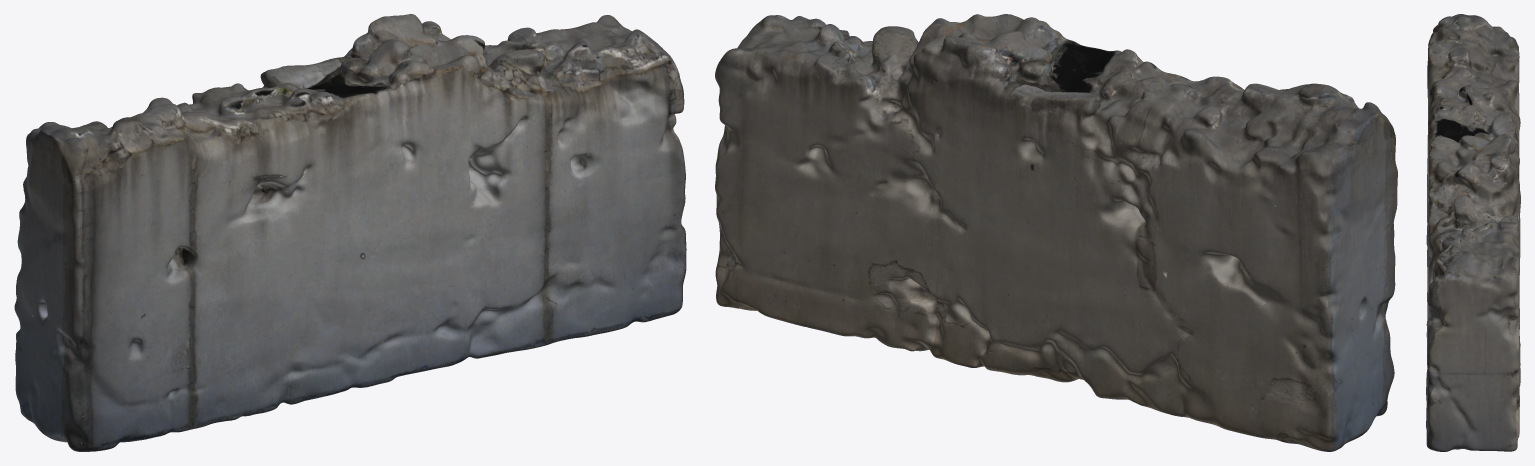
The model's file is A_ruined_concrete_wal_0305131232_texture.obj.
3 renders of one model, left to right at view 1: azimuth 30°, elevation 25°; view 2: azimuth 150°, elevation 25°; view 3: azimuth 270°, elevation 25°, orthographic. The views are drawn at different scales.
Visible parts, largest first — view 1: A_ruined_concrete_wal_0305131232_texture; view 2: A_ruined_concrete_wal_0305131232_texture; view 3: A_ruined_concrete_wal_0305131232_texture.
Part boxes in pixels (bbox=[...]): A_ruined_concrete_wal_0305131232_texture: bbox=[14, 14, 686, 451]; A_ruined_concrete_wal_0305131232_texture: bbox=[715, 14, 1397, 451]; A_ruined_concrete_wal_0305131232_texture: bbox=[1426, 14, 1520, 451].
Bounding box in the file's own units: 2 × 0.9864 × 0.3696.
Materials: 1 (1 with a texture image).
